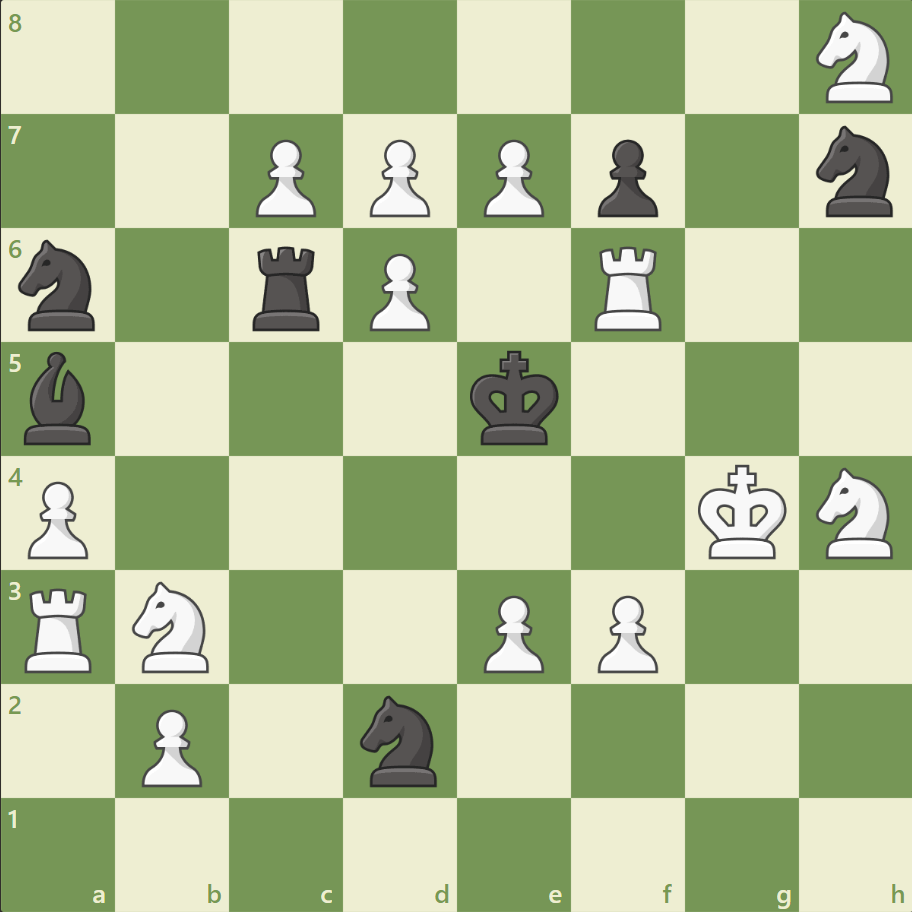K: (692, 458, 792, 566)
N: (124, 575, 222, 677), (806, 7, 903, 110), (806, 461, 903, 564)
P: (247, 132, 322, 223), (474, 132, 549, 223), (20, 473, 95, 564), (474, 586, 549, 677), (133, 700, 208, 791), (361, 132, 435, 223), (361, 246, 435, 337), (588, 586, 662, 677)
R: (587, 239, 670, 336), (19, 579, 102, 676)
b: (17, 347, 101, 449)
k: (465, 344, 565, 452)
n: (351, 688, 449, 791), (11, 234, 108, 337), (806, 121, 903, 223)
p: (588, 132, 662, 223)
r: (246, 239, 329, 336)
